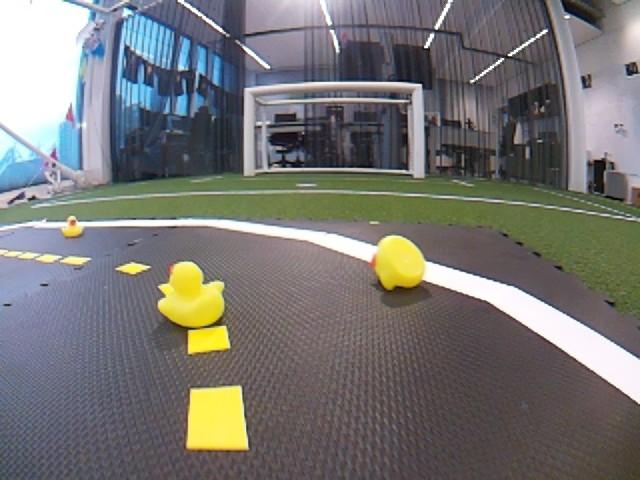Duckies: (157, 262, 225, 327), (375, 235, 429, 288), (62, 217, 84, 237)
